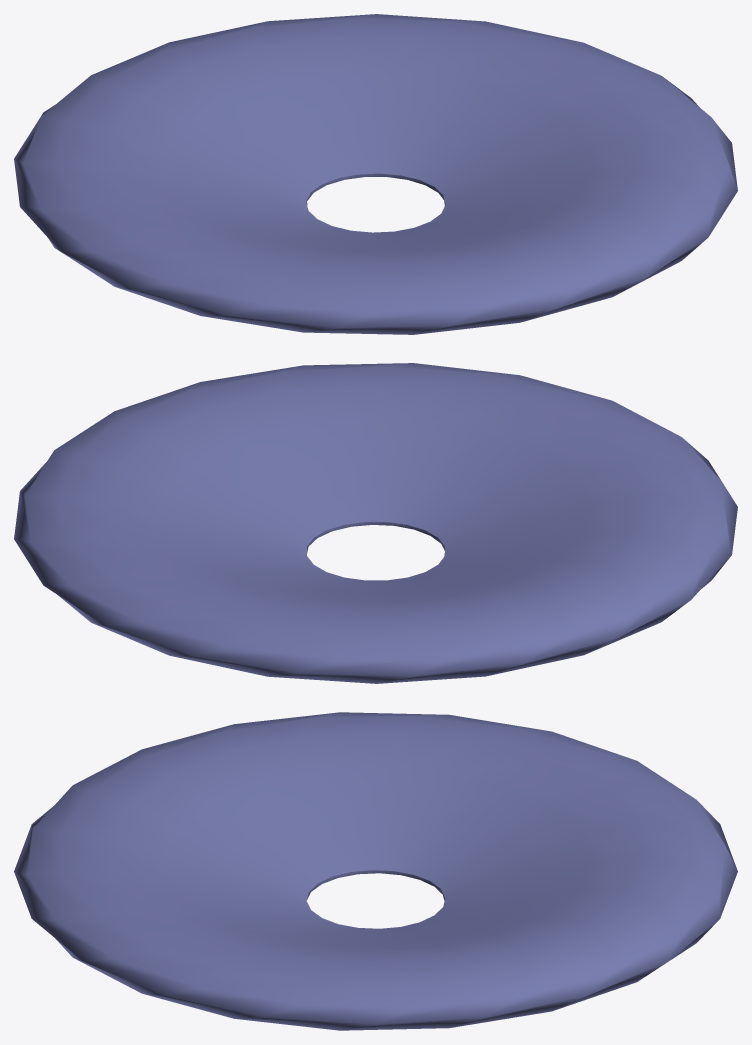
File: SM_Hurricane.fbx
3 renders of one model, top to bottom at view 1: azimuth 30°, elevation 25°; view 2: azimuth 150°, elevation 25°; view 3: azimuth 270°, elevation 25°, orthographic.
Parts seen in each view (by area): view 1: polySurface4; view 2: polySurface4; view 3: polySurface4.
Boxes of the visible parts, x1,y1,x2,y2 form: polySurface4: [14, 14, 737, 334]; polySurface4: [14, 363, 737, 683]; polySurface4: [14, 712, 737, 1030].
Bounding box in the file's own units: 1991 × 171 × 1991.
